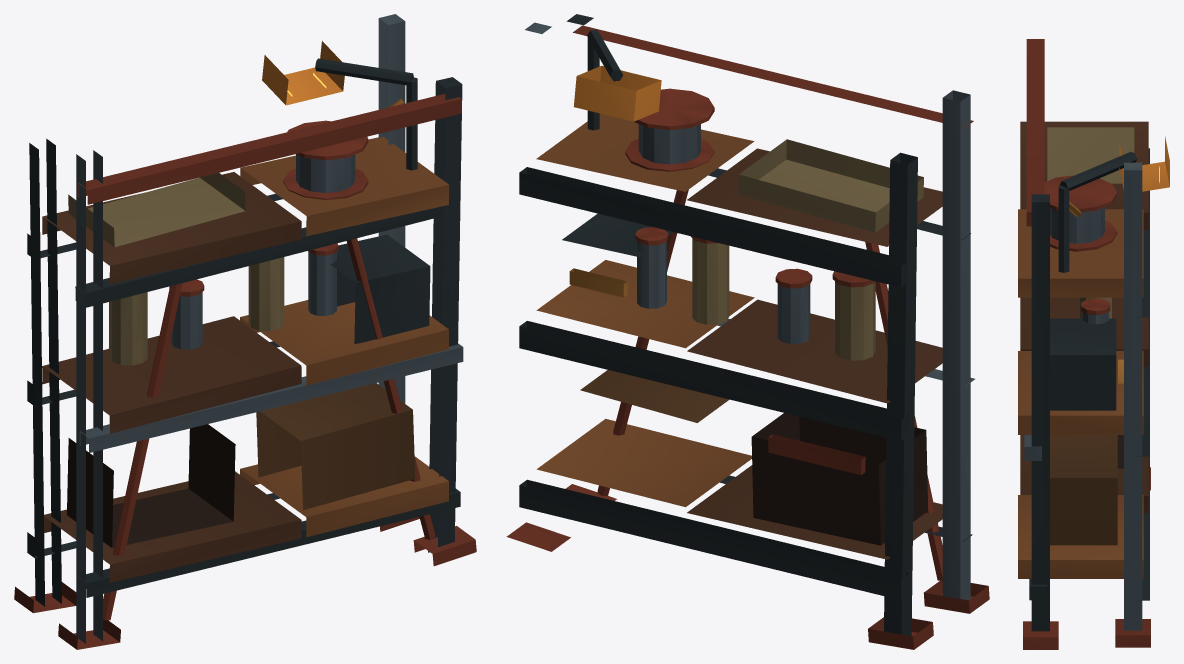
The model's file is warm_storage_rack.glb.
3 views of the same model, side by side, from view 1: azimuth 30°, elevation 25°; view 2: azimuth 150°, elevation 25°; view 3: azimuth 270°, elevation 25° (orthographic). The views are drawn at different scales.
Visible parts, largest first — view 1: WarmStorageRack_Mesh; view 2: WarmStorageRack_Mesh; view 3: WarmStorageRack_Mesh.
Part boxes in pixels (x1=…): WarmStorageRack_Mesh: x1=14, y1=14, x2=476, y2=649; WarmStorageRack_Mesh: x1=506, y1=14, x2=989, y2=649; WarmStorageRack_Mesh: x1=1018, y1=39, x2=1169, y2=649.
Size of the model in its own units: 1.71 by 2.04 by 0.5926.
